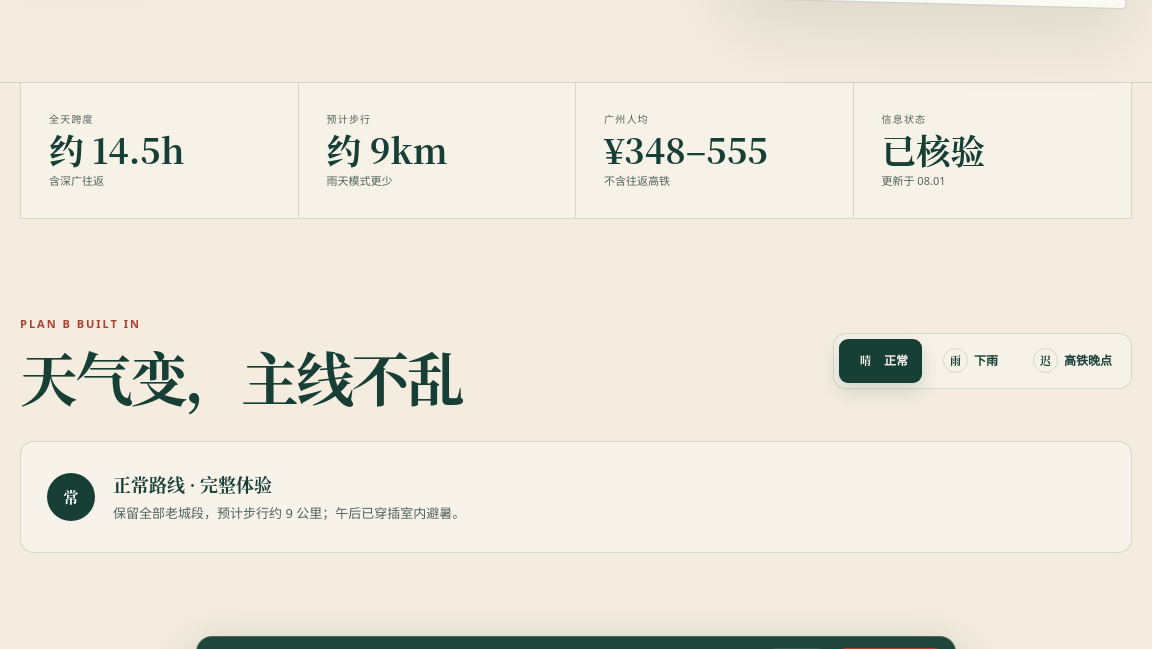
TripPlanner › renders the delay breakfast copy, budget, transfer, and Baidu target from one override
(page scrolled)
Click the tab "迟 高铁晚点": (1072, 361) [1019,339,1126,383]
(page scrolled)
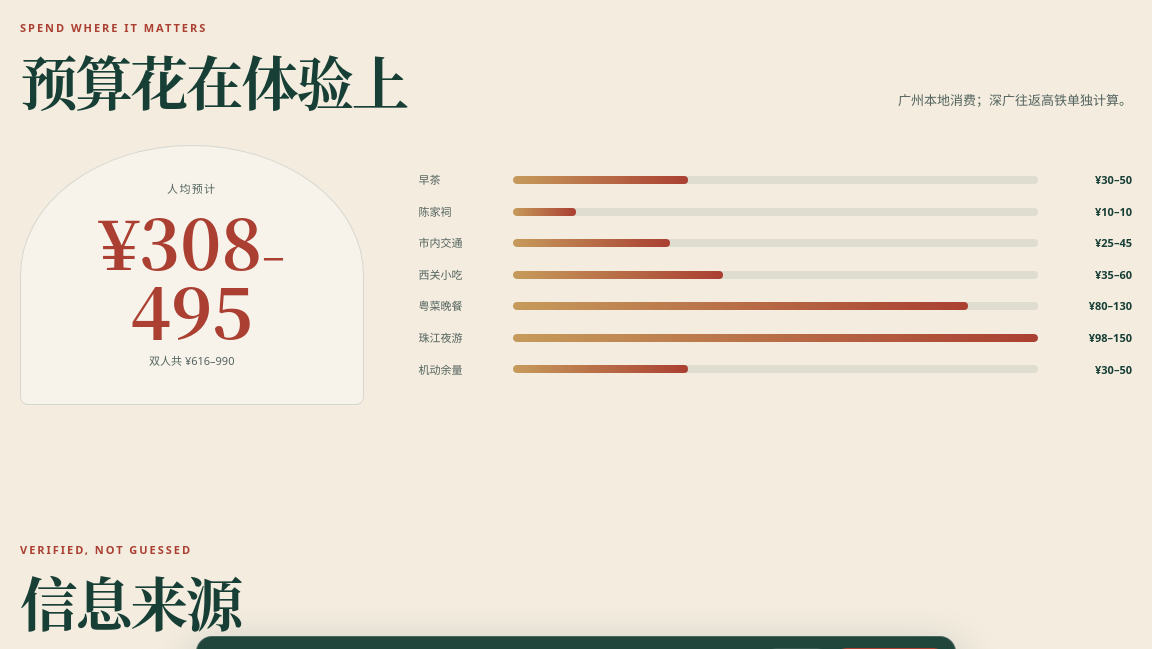
Expected: the text "双人共 ¥616–990" is shown, [149,352,234,369]
